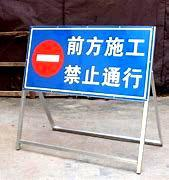sign: (26, 26, 149, 98)
